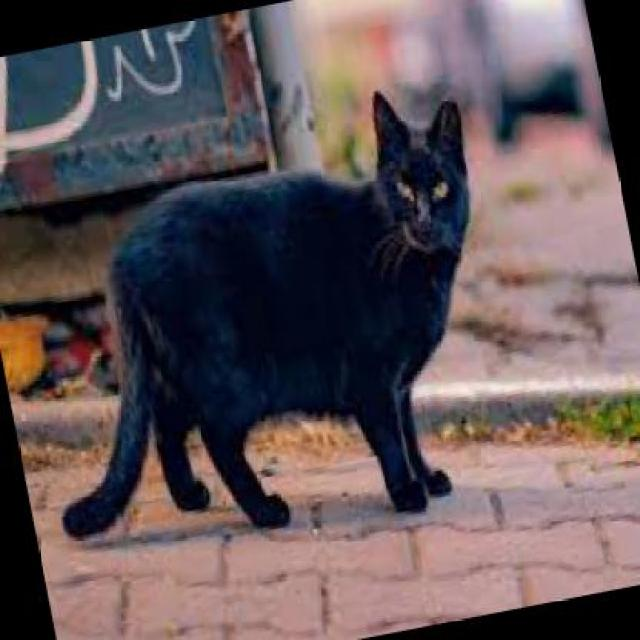animals: (0, 52, 569, 582)
